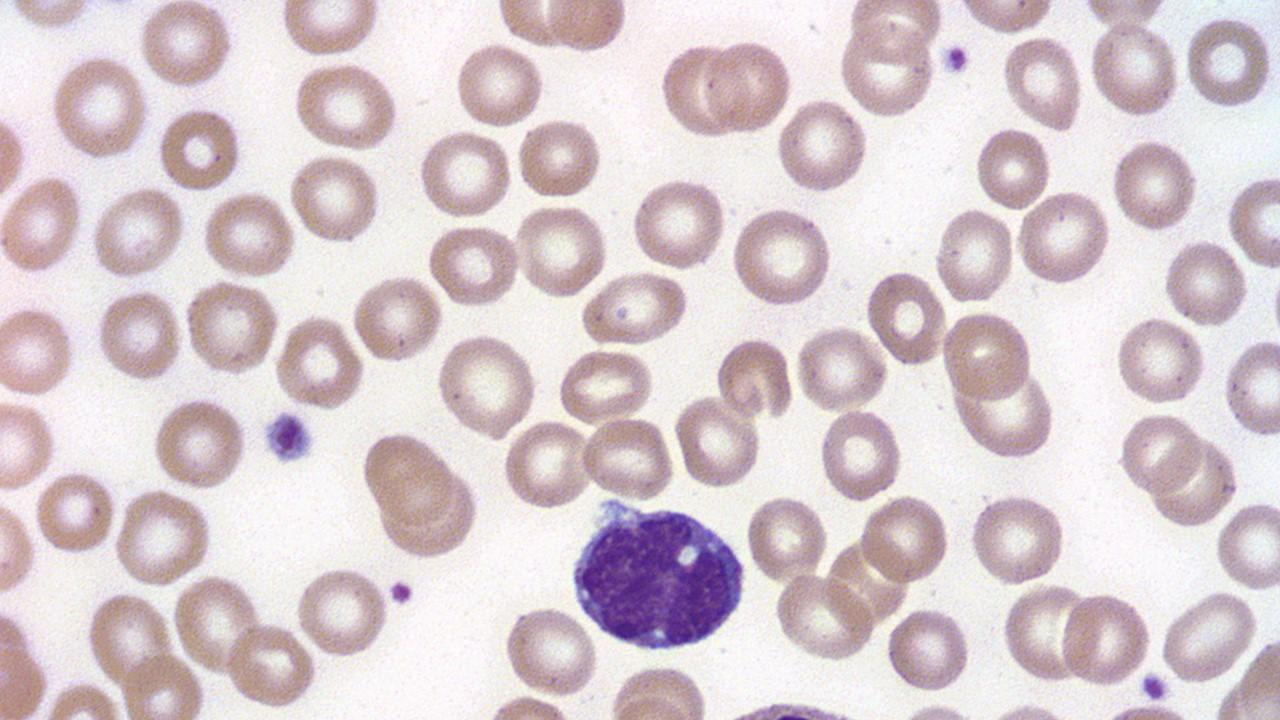Platelets: (260, 410, 316, 467), (1136, 670, 1174, 703), (940, 40, 970, 77)
RBC: (434, 329, 538, 442), (47, 52, 151, 163), (729, 204, 833, 309), (950, 364, 1057, 461), (290, 61, 401, 153), (112, 488, 215, 587), (966, 490, 1070, 588), (1157, 588, 1259, 686), (835, 24, 939, 120), (998, 582, 1094, 686), (170, 571, 263, 678), (181, 279, 280, 379), (1014, 188, 1112, 287), (630, 173, 729, 271), (774, 95, 870, 196), (512, 202, 611, 299), (149, 394, 248, 491), (293, 562, 393, 658), (1058, 588, 1152, 690), (88, 185, 186, 282), (501, 604, 600, 700), (1088, 19, 1180, 122), (771, 573, 875, 663), (359, 428, 456, 524), (272, 313, 366, 412), (415, 128, 515, 221), (1183, 11, 1275, 112), (702, 36, 793, 137), (83, 588, 173, 690), (578, 269, 694, 348), (287, 152, 382, 248), (1112, 313, 1208, 408), (349, 270, 445, 365), (939, 307, 1034, 402), (138, 1, 237, 92), (1110, 136, 1200, 236), (858, 491, 952, 586), (816, 406, 904, 506), (198, 192, 296, 281), (93, 288, 184, 383), (672, 394, 762, 490), (1148, 433, 1238, 528), (1160, 235, 1250, 330), (425, 222, 522, 310), (1000, 34, 1085, 134), (864, 267, 947, 369), (224, 620, 318, 710), (452, 40, 546, 129), (792, 324, 888, 411), (579, 418, 676, 504), (502, 418, 592, 510), (884, 603, 972, 697), (744, 490, 830, 586), (658, 39, 738, 142), (2, 174, 82, 276), (934, 204, 1014, 306), (556, 346, 657, 424), (154, 105, 244, 192), (1116, 409, 1204, 496), (514, 116, 604, 201), (33, 466, 116, 558), (0, 302, 79, 398), (973, 123, 1053, 214), (714, 334, 793, 422), (848, 1, 944, 68), (1213, 496, 1279, 591), (276, 2, 382, 60), (1222, 334, 1280, 440), (120, 649, 207, 719), (0, 397, 59, 492), (1225, 170, 1280, 270), (544, 1, 630, 58), (0, 624, 50, 717), (0, 492, 38, 598), (1238, 634, 1280, 717), (952, 1, 1056, 34), (0, 95, 27, 211)
WBC: (564, 497, 752, 655)
